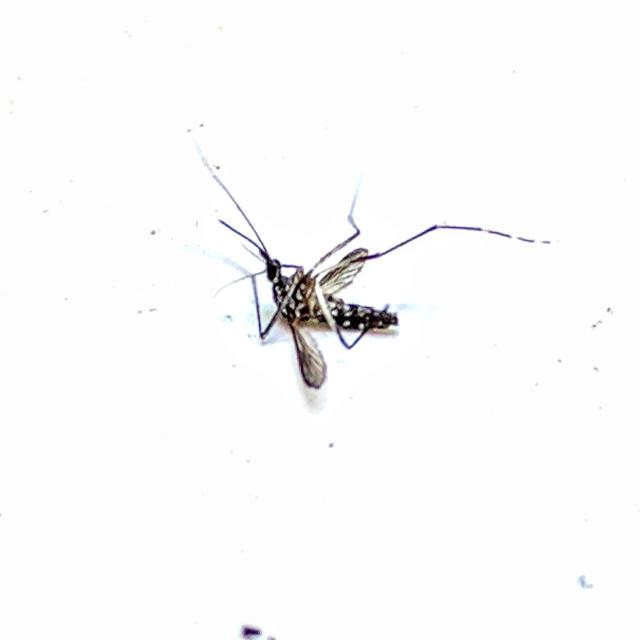albopictus: (195, 149, 540, 387)
